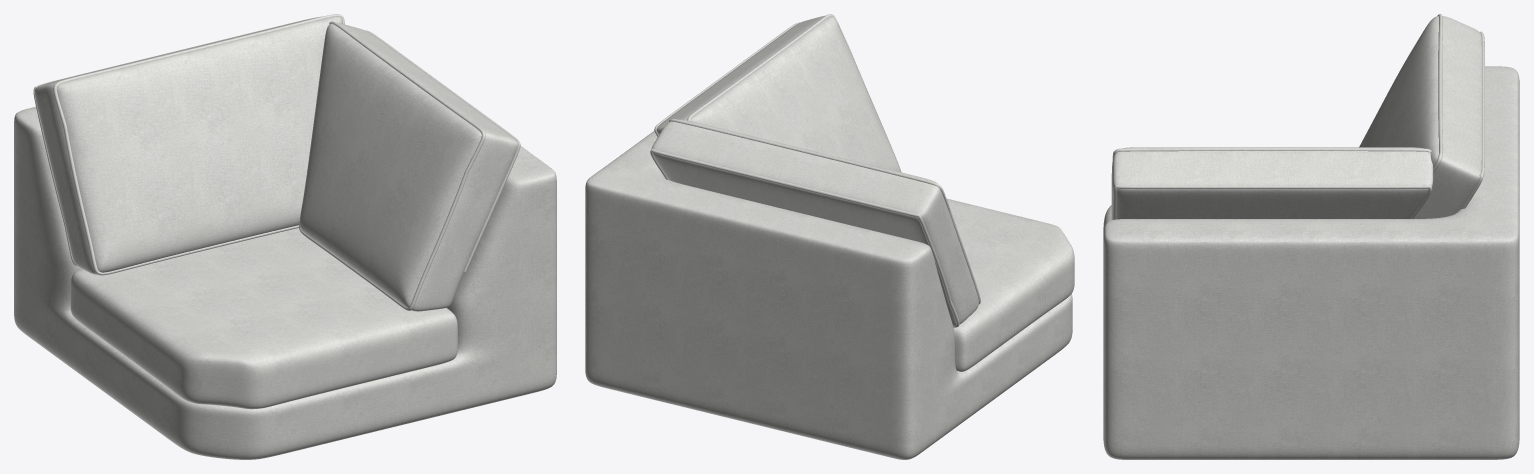
File: corner.glb
3 renders of one model, left to right at view 1: azimuth 30°, elevation 25°; view 2: azimuth 150°, elevation 25°; view 3: azimuth 270°, elevation 25°, orthographic. The views are drawn at different scales.
Parts seen in each view (by area): view 1: object 5, object 1, object 2, object 7, D=0,01 m (×4); view 2: object 1, object 5, object 7, object 2, D=0,01 m (×3); view 3: object 1, object 7, object 5, D=0,01 m (×4).
Part boxes in pixels (x1,y1,x2,y2): object 5: (35,16,342,274); object 1: (14,106,556,459); object 2: (70,228,457,409); object 7: (299,23,517,311); D=0,01 m (×4): (33,14,520,310); object 1: (585,131,1072,459); object 5: (651,119,978,325); object 7: (656,15,901,172); object 2: (947,198,1074,371); D=0,01 m (×3): (650,14,980,327); object 1: (1103,66,1519,459); object 7: (1111,147,1433,219); object 5: (1359,16,1481,218); D=0,01 m (×4): (1112,14,1484,219).
Bounding box in the file's own units: 1.05 × 0.7792 × 1.05.
1 material, 1 textured.
